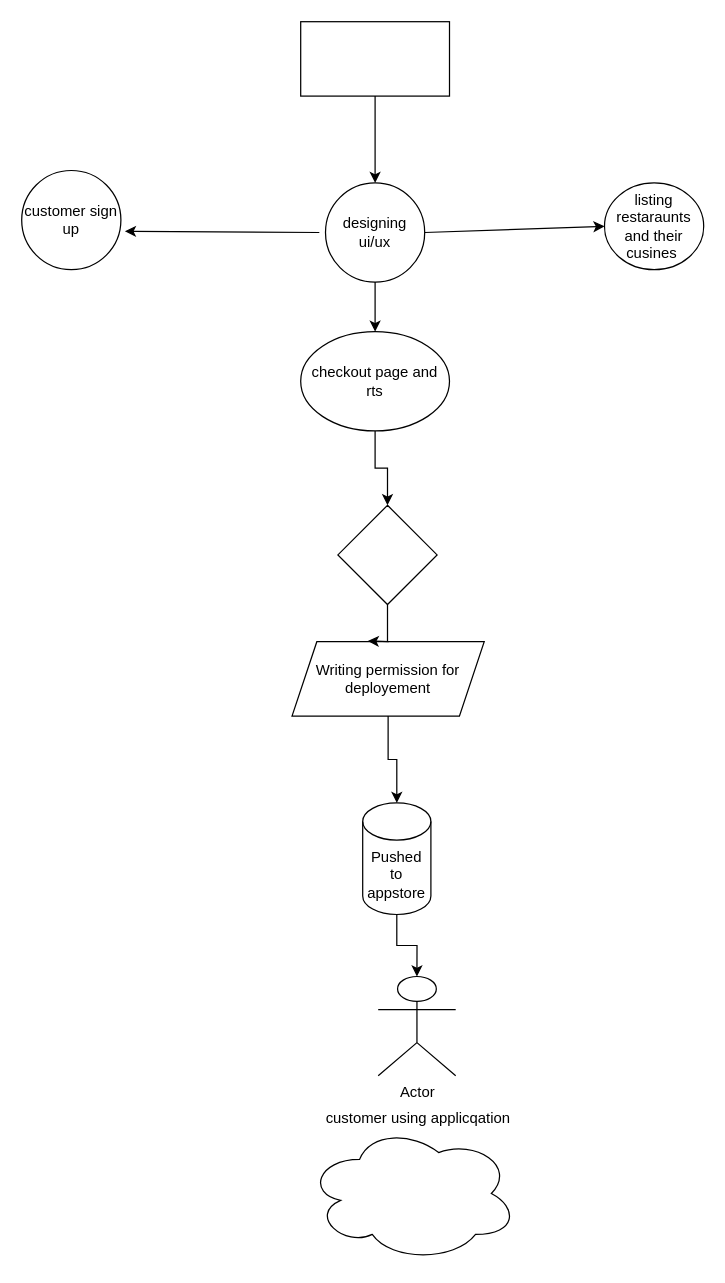
The diagram is 725 pixels wide and 1283 high, and some of its shapes have lost their labels. The shapes that lost their labels are listed below. From the top down, each one's centre as x and y in pixels, then its label:
the point at 374,58: zk eats
the point at 387,554: No bugs found
the point at 412,1193: recieved no feedback
